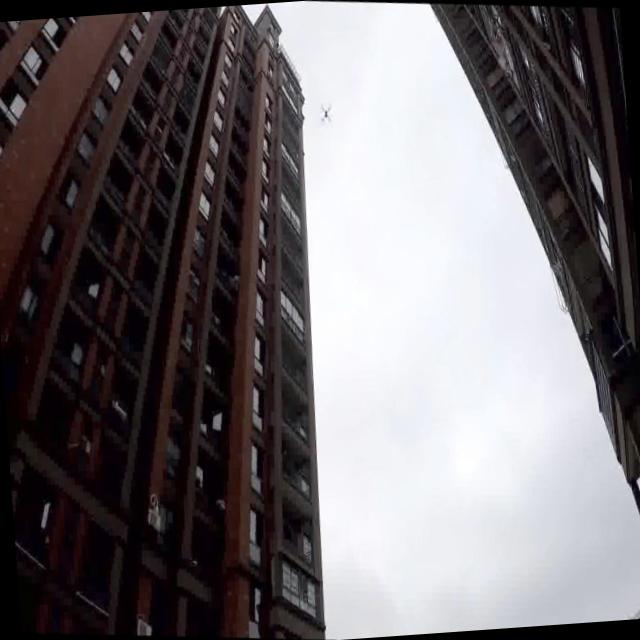drone: (316, 96, 336, 130)
